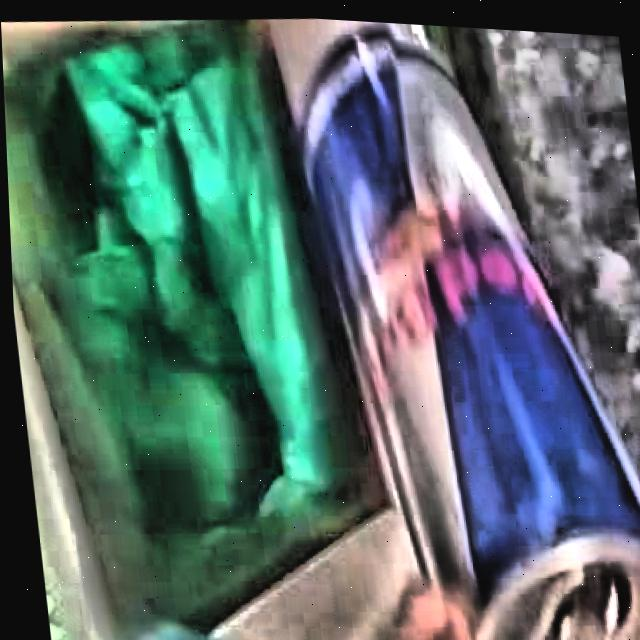metal: (300, 24, 640, 640)
